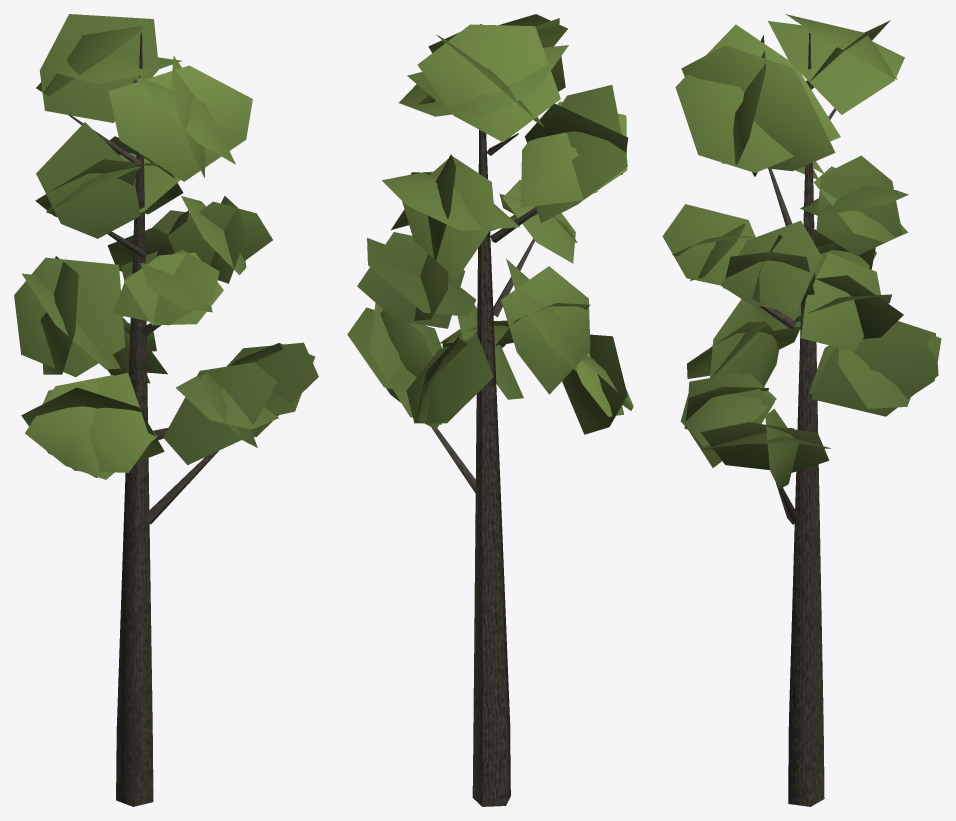
Rendered from upright_02_native_base_T016494_lod3.glb.
3 renders of one model, left to right at view 1: azimuth 30°, elevation 25°; view 2: azimuth 150°, elevation 25°; view 3: azimuth 270°, elevation 25°, orthographic.
Visible parts, largest first — view 1: individual_curved_leaf_sprigs, retained_branches_1, retained_branches_0; view 2: individual_curved_leaf_sprigs, retained_branches_1, retained_branches_0; view 3: individual_curved_leaf_sprigs, retained_branches_1, retained_branches_0.
Part boxes in pixels (x1=…): individual_curved_leaf_sprigs: x1=14, y1=14, x2=318, y2=479; retained_branches_1: x1=68, y1=33, x2=218, y2=735; retained_branches_0: x1=116, y1=729, x2=153, y2=806; individual_curved_leaf_sprigs: x1=347, y1=14, x2=633, y2=434; retained_branches_1: x1=431, y1=24, x2=537, y2=734; retained_branches_0: x1=472, y1=724, x2=510, y2=806; individual_curved_leaf_sprigs: x1=662, y1=14, x2=941, y2=489; retained_branches_1: x1=758, y1=33, x2=836, y2=735; retained_branches_0: x1=788, y1=727, x2=824, y2=806.
Bounding box in the file's own units: 4.82 × 12.68 × 4.16.
2 materials, 1 textured.
